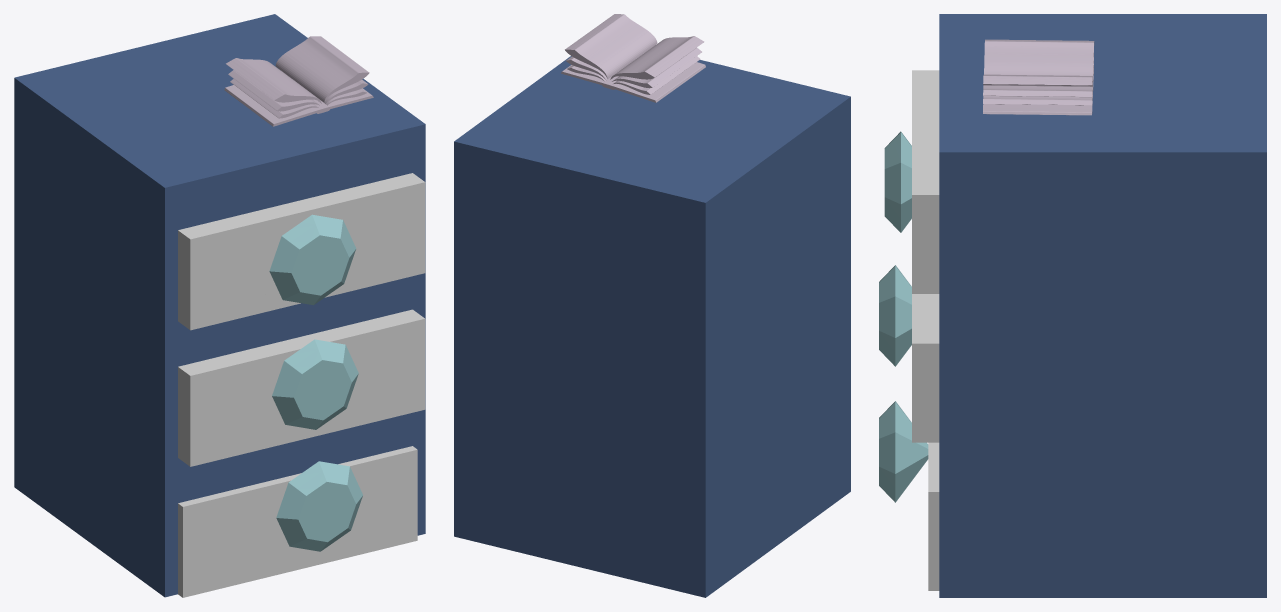
Rendered from Frantic Uusam-Blad.glb.
3 views of the same model, side by side, from view 1: azimuth 30°, elevation 25°; view 2: azimuth 150°, elevation 25°; view 3: azimuth 270°, elevation 25° (orthographic). The views are drawn at different scales.
Visible parts, largest first — view 1: Mesh_Mesh_head_geo.001_lambert2SG.001; view 2: Mesh_Mesh_head_geo.001_lambert2SG.001; view 3: Mesh_Mesh_head_geo.001_lambert2SG.001.
Boxes of the visible parts, left/top/right/bottom form: Mesh_Mesh_head_geo.001_lambert2SG.001: left=14, top=14, right=425, bottom=597; Mesh_Mesh_head_geo.001_lambert2SG.001: left=454, top=14, right=850, bottom=597; Mesh_Mesh_head_geo.001_lambert2SG.001: left=879, top=14, right=1266, bottom=597.
Size of the model in its own units: 60 by 100 by 71.
